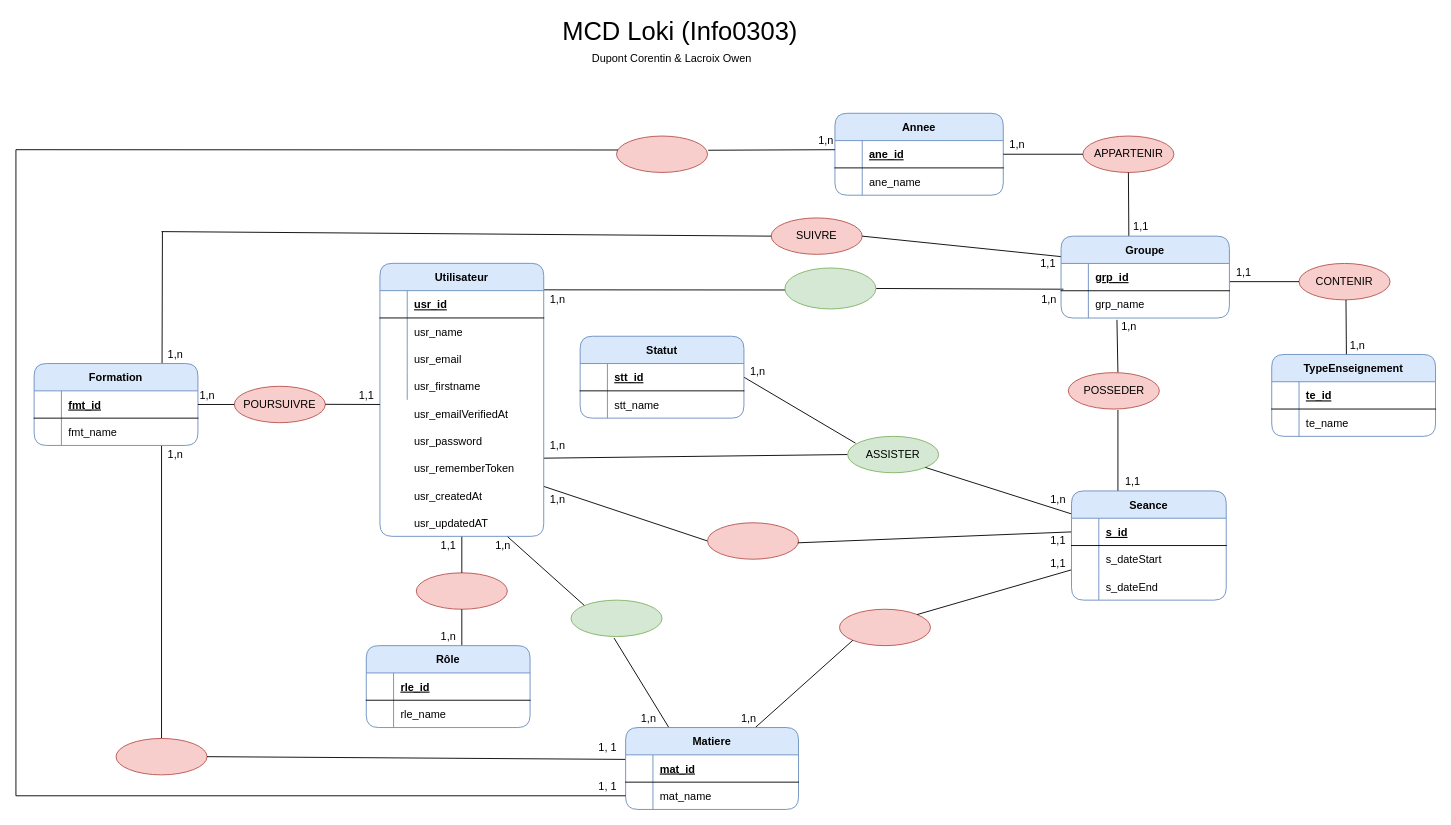
Image size: 1451x825. Some labels were removed from this diagram. The centre of each missing label's shape, as x and y in pixels:
"AFFECTDER" goes at pixel 461 590.
"CONCERNER" goes at pixel 161 756.
"ENSEIGNER" goes at pixel 616 618.
"FAIRE PARTIE DE" goes at pixel 830 288.
"IMPLIQUER" goes at pixel 662 153.
"PORTER SUR" goes at pixel 884 627.
"PROPOSER" goes at pixel 753 540.
